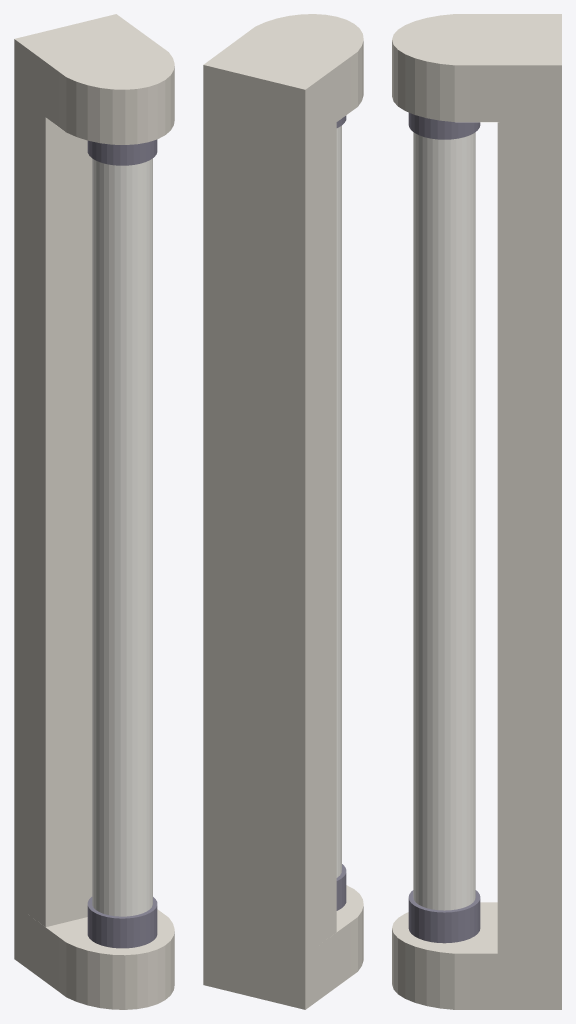
File: boxlightlong.fbx
3 renders of one model, left to right at view 1: azimuth 30°, elevation 25°; view 2: azimuth 150°, elevation 25°; view 3: azimuth 270°, elevation 25°, orthographic. The views are drawn at different scales.
Parts seen in each view (by area): view 1: BoxLightLong; view 2: BoxLightLong; view 3: BoxLightLong.
Boxes of the visible parts, bbox=[...] form: BoxLightLong: bbox=[14, 14, 174, 1009]; BoxLightLong: bbox=[203, 14, 363, 1009]; BoxLightLong: bbox=[392, 14, 561, 1009].
Bounding box in the file's own units: 32.86 × 282 × 45.93.
